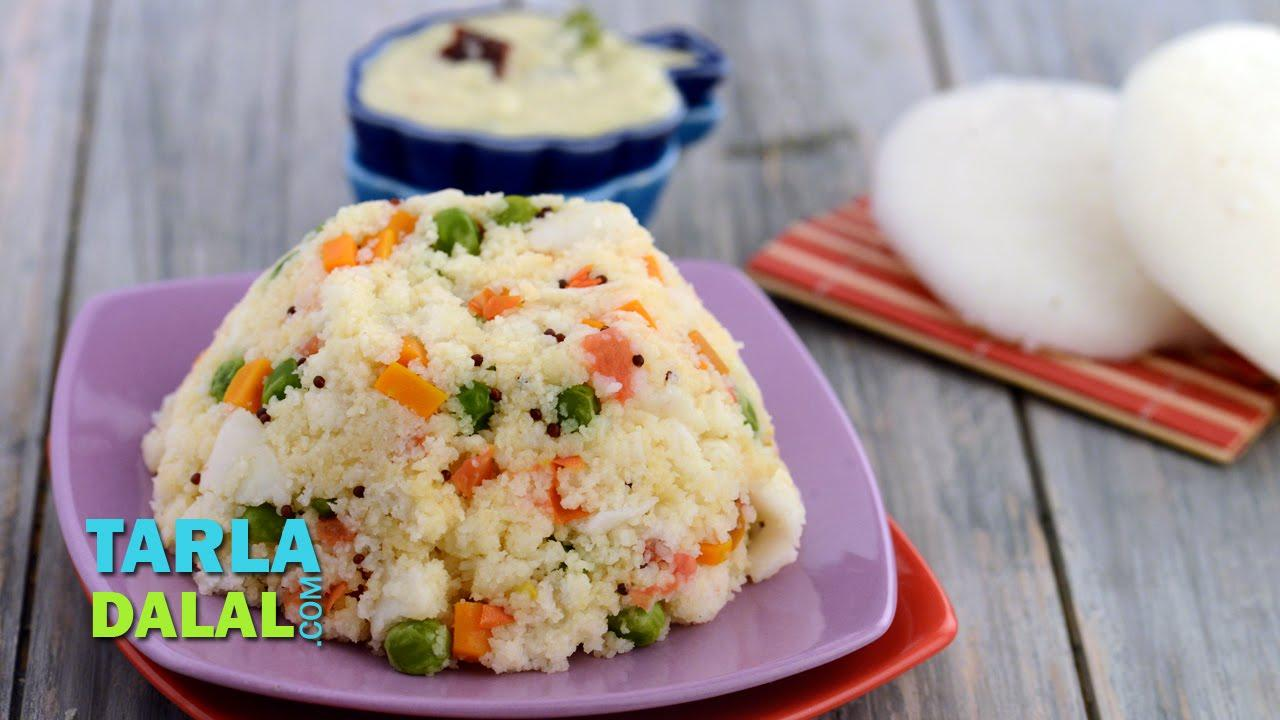upma: (139, 183, 804, 671)
